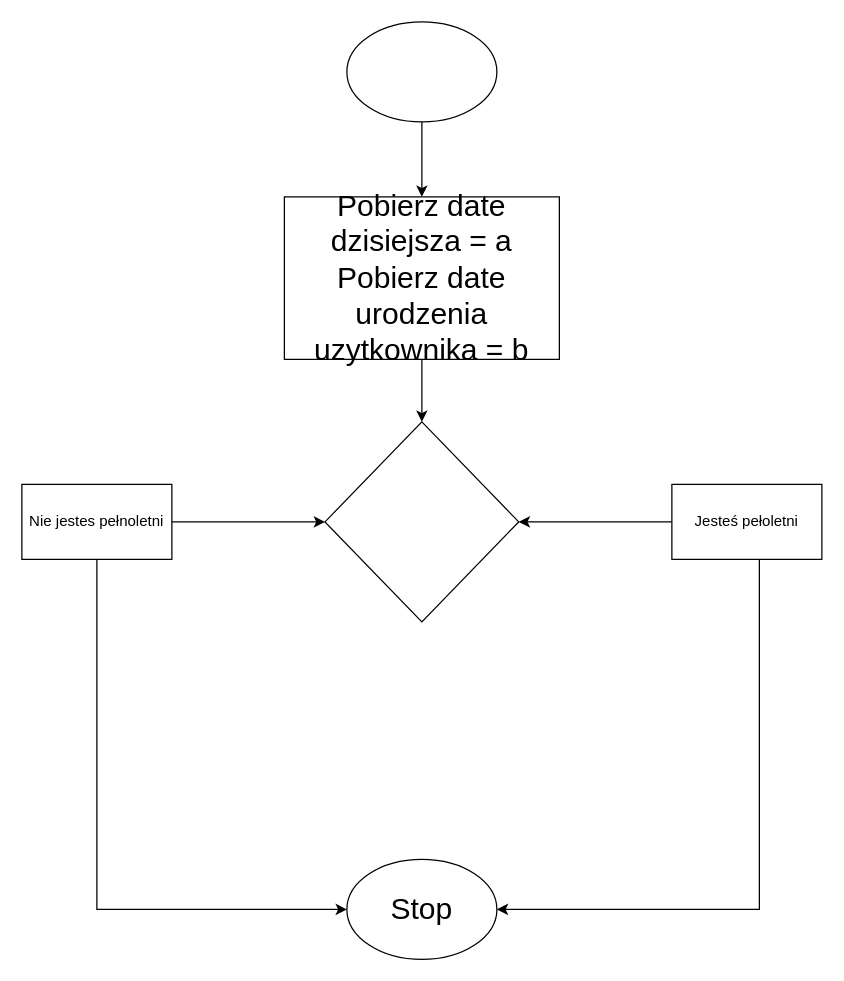
This 844x981 diagram has some shape labels left out. The centre of each missing label's shape, as x and y in pixels:
a-b= a>18: (x=421, y=521)
Start: (x=421, y=71)
